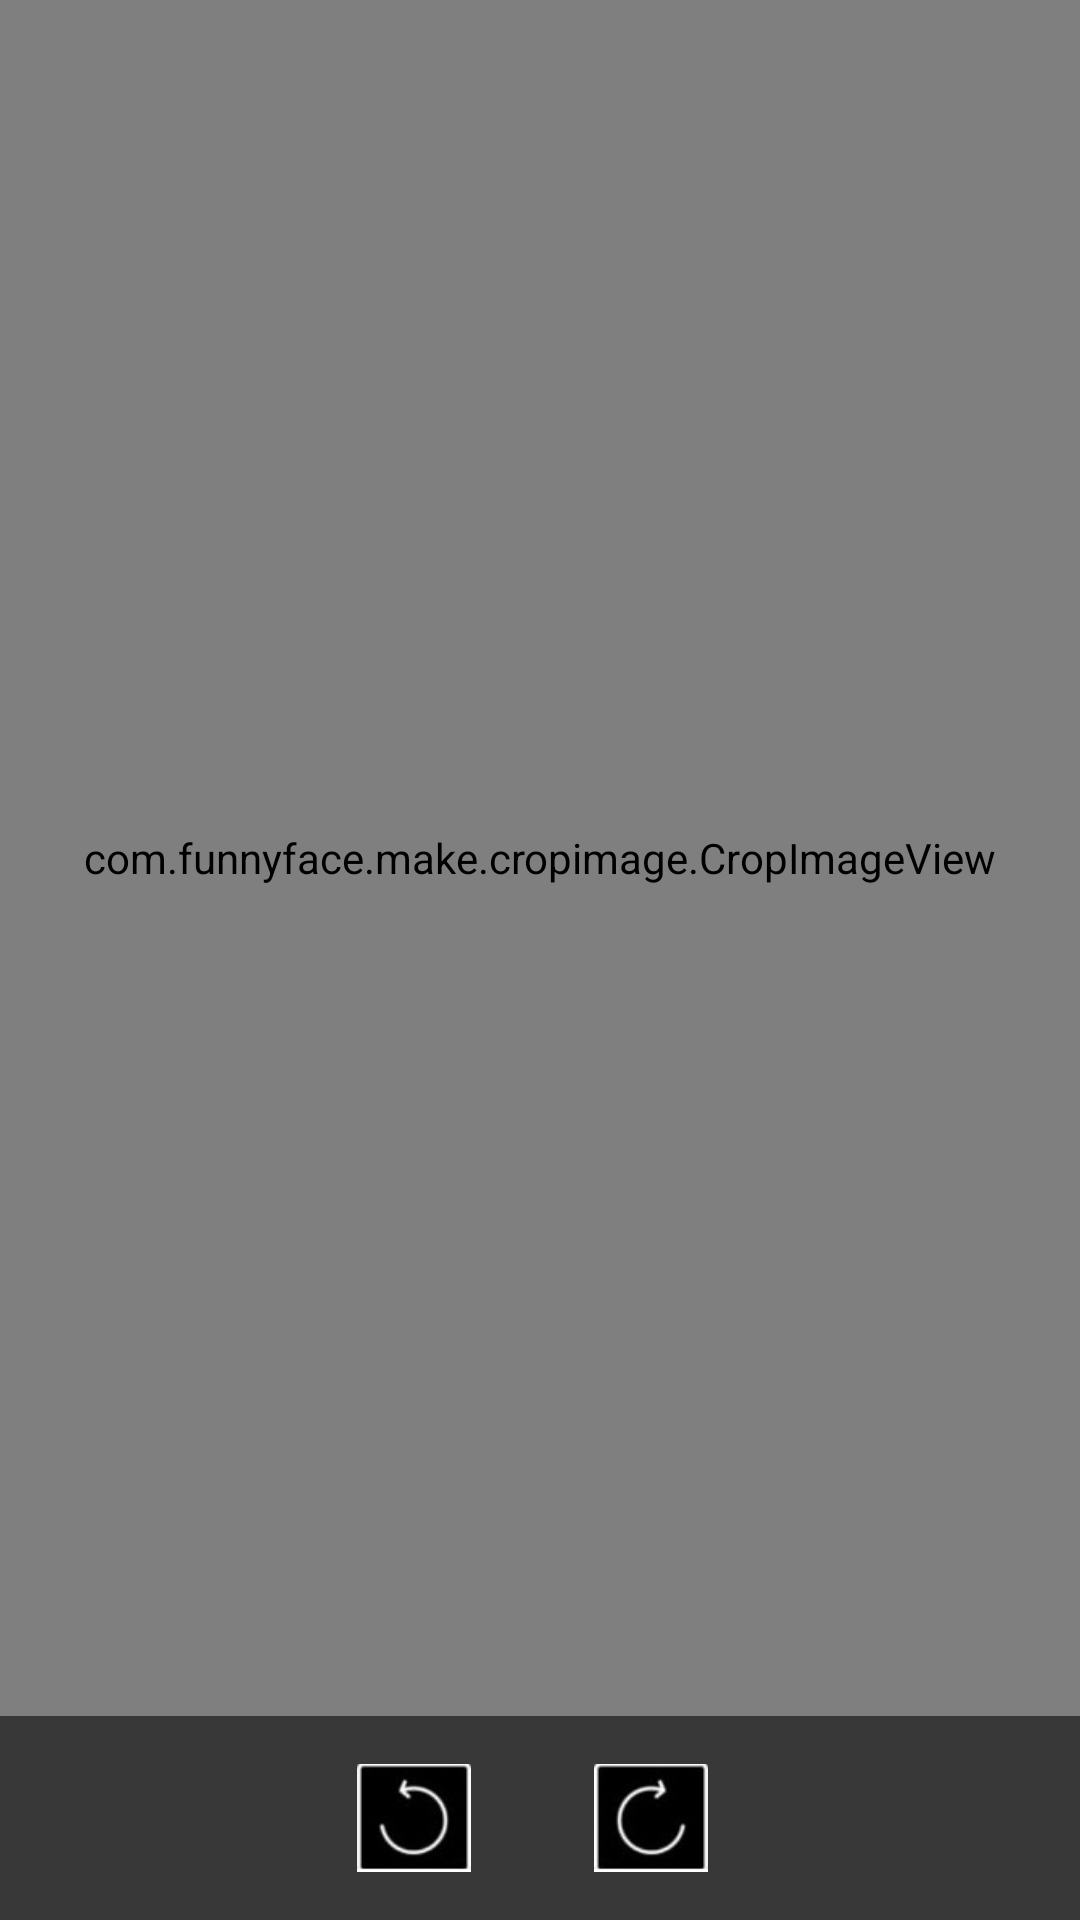

Where icons sit on this 1080 x 1920 app screen, as [x1=x1, y1=y1, x2=x2, y2=y2]:
rotate: [x1=357, y1=1764, x2=471, y2=1872], [x1=594, y1=1764, x2=708, y2=1872]
